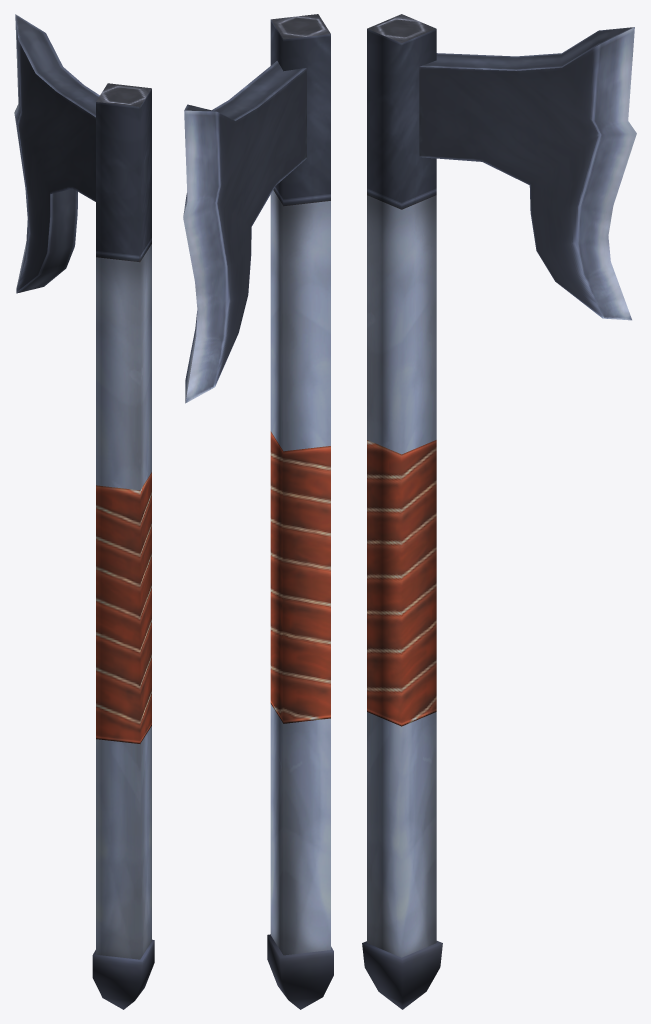
File: Battle axe3.FBX
3 renders of one model, left to right at view 1: azimuth 30°, elevation 25°; view 2: azimuth 150°, elevation 25°; view 3: azimuth 270°, elevation 25°, orthographic. The views are drawn at different scales.
Parts seen in each view (by area): view 1: Battle axe3; view 2: Battle axe3; view 3: Battle axe3.
Part boxes in pixels (<box>): Battle axe3: <box>14,14,154,1009</box>; Battle axe3: <box>183,14,333,1009</box>; Battle axe3: <box>362,14,636,1009</box>.
Size of the model in its own units: 0.0785 by 1.11 by 0.2811.
